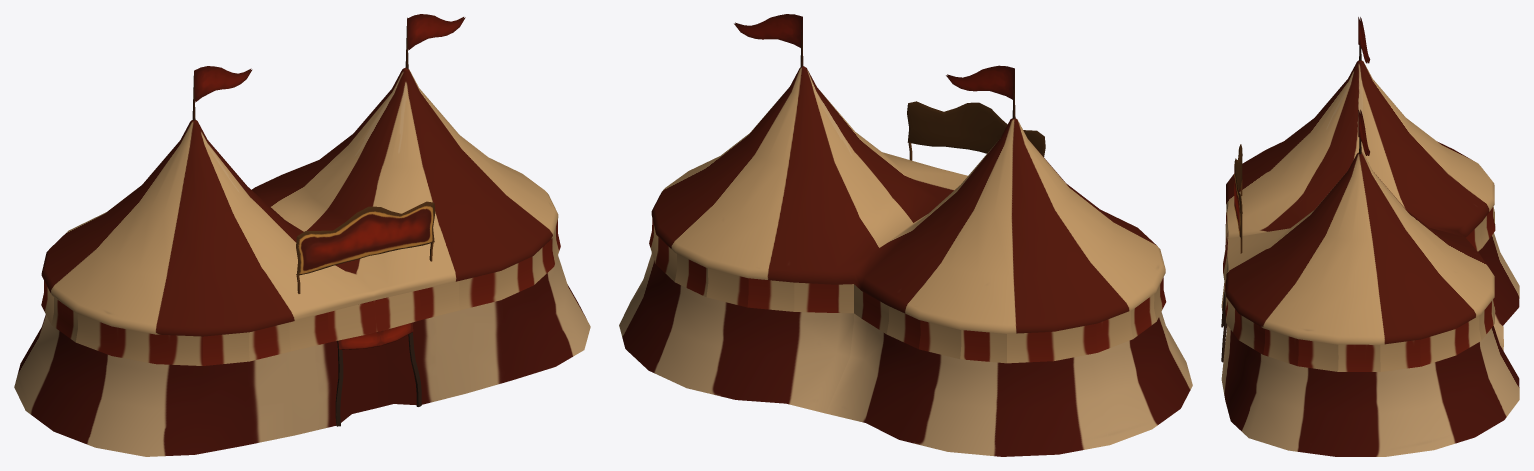
File: Big_Tent.fbx
The picture shows the model from 3 angles, left to right: view 1: azimuth 30°, elevation 25°; view 2: azimuth 150°, elevation 25°; view 3: azimuth 270°, elevation 25°; orthographic projection. The views are drawn at different scales.
Visible parts, largest first — view 1: TentTop, TentBody, Alpha, Sign, Flag2, Flag1, Curtain; view 2: TentTop, TentBody, Alpha, Sign, Flag3, Flag4; view 3: TentTop, TentBody, Alpha, Sign.
Boxes of the visible parts, left/top/right/bottom form: TentTop: left=41, top=67, right=558, bottom=336; TentBody: left=14, top=255, right=590, bottom=456; Alpha: left=41, top=220, right=560, bottom=365; Sign: left=296, top=201, right=435, bottom=275; Flag2: left=408, top=15, right=465, bottom=50; Flag1: left=195, top=67, right=252, bottom=102; Curtain: left=338, top=322, right=413, bottom=349; TentTop: left=651, top=66, right=1165, bottom=333; TentBody: left=619, top=253, right=1192, bottom=456; Alpha: left=649, top=219, right=1166, bottom=363; Sign: left=907, top=101, right=1045, bottom=156; Flag3: left=734, top=15, right=801, bottom=47; Flag4: left=946, top=66, right=1013, bottom=99; TentTop: left=1226, top=60, right=1494, bottom=344; TentBody: left=1221, top=233, right=1519, bottom=456; Alpha: left=1223, top=206, right=1495, bottom=371; Sign: left=1234, top=144, right=1242, bottom=238.
Size of the model in its own units: 108 by 62.47 by 59.62.
